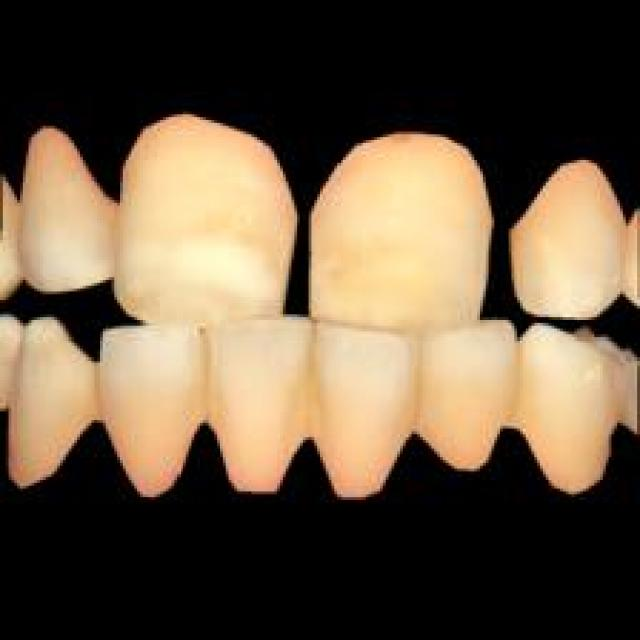cavity: (297, 363, 323, 437), (403, 360, 428, 431), (508, 357, 532, 429), (83, 360, 111, 417), (194, 360, 217, 417)
tooth: (306, 123, 494, 326), (120, 108, 294, 326), (508, 146, 628, 317), (200, 320, 317, 489), (97, 320, 209, 494), (314, 323, 420, 497), (517, 317, 617, 492), (17, 123, 114, 286), (14, 314, 97, 489), (420, 317, 511, 469)
